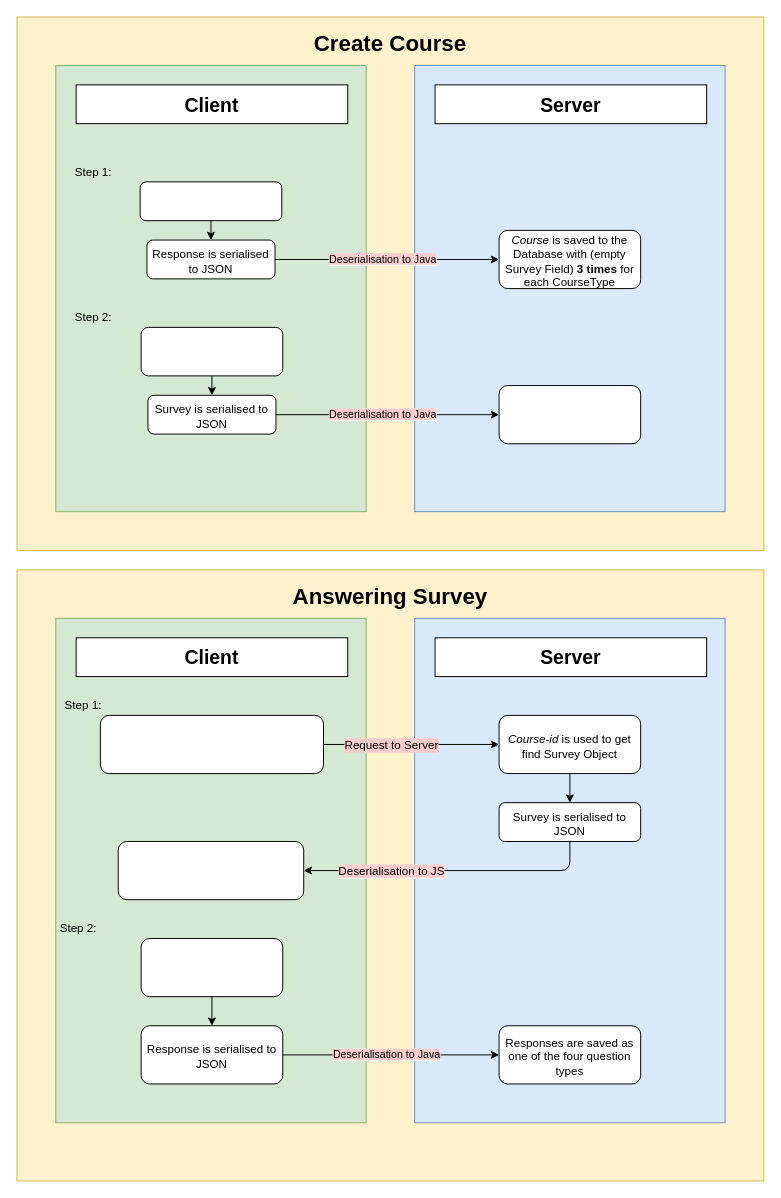
Some shapes in this 781 by 1198 pixel diagram are drawn without their labels. Each missing label, with the centre of its shape:
Surveys are saved to the Database: the point at 569,414
USER completes Survey and Submits it: the point at 211,967
USER defines Surveys for the relevant types of courses they created: the point at 211,351
USER receives Survey (which is generated from JSON): the point at 210,870
USER scans QR Code (QRCode: www.qova.de/course-id): the point at 211,744
USER with Permissions creates Course: the point at 210,201
